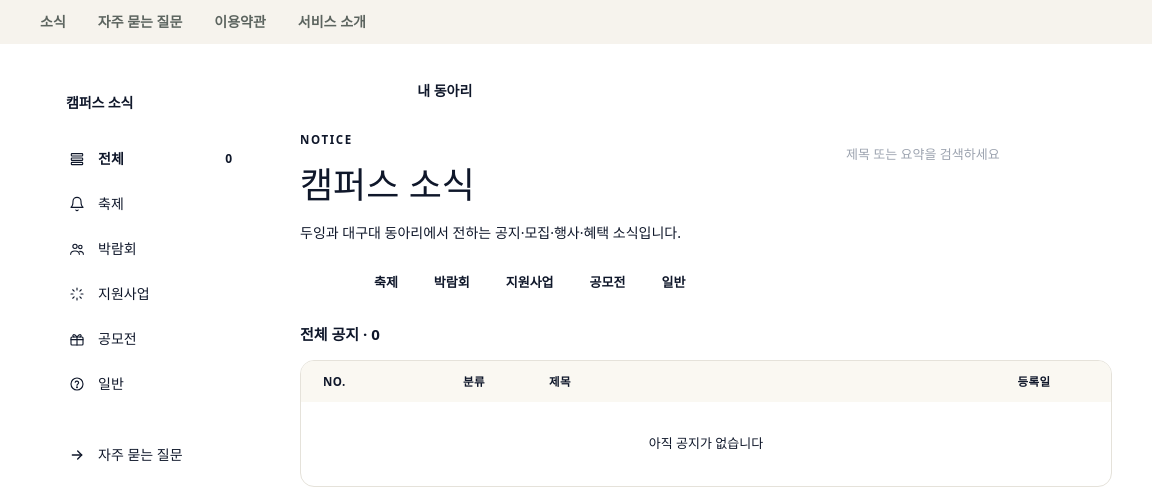
Scenario: NoticesPage — 고정 공지 3건 이상·빈 상태 › 내 동아리 공지가 0건이면 "가입한 동아리의 공지가 없습니다" 를 보인다
The width and height of the screenshot is (1152, 504).
Click the button "내 동아리" at [445, 90], box [399,72,490,109]
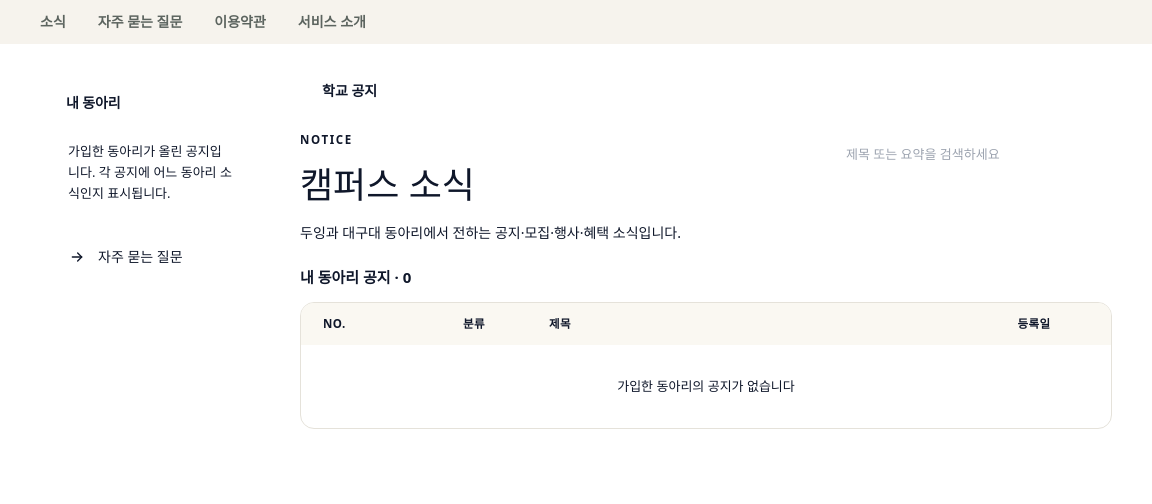
Now the text "가입한 동아리의 공지가 없습니다" is shown, box [617,377,795,395]
